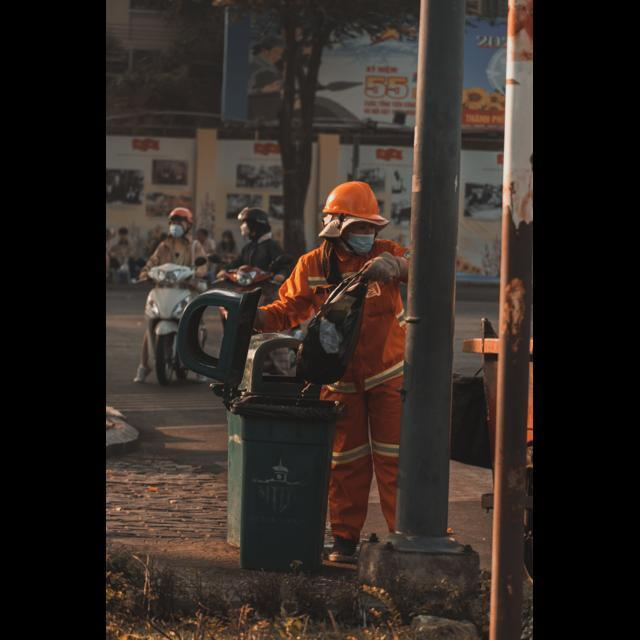helmet: (312, 172, 396, 228), (230, 196, 284, 246), (164, 202, 198, 232)
safety_vest: (253, 220, 440, 572)
